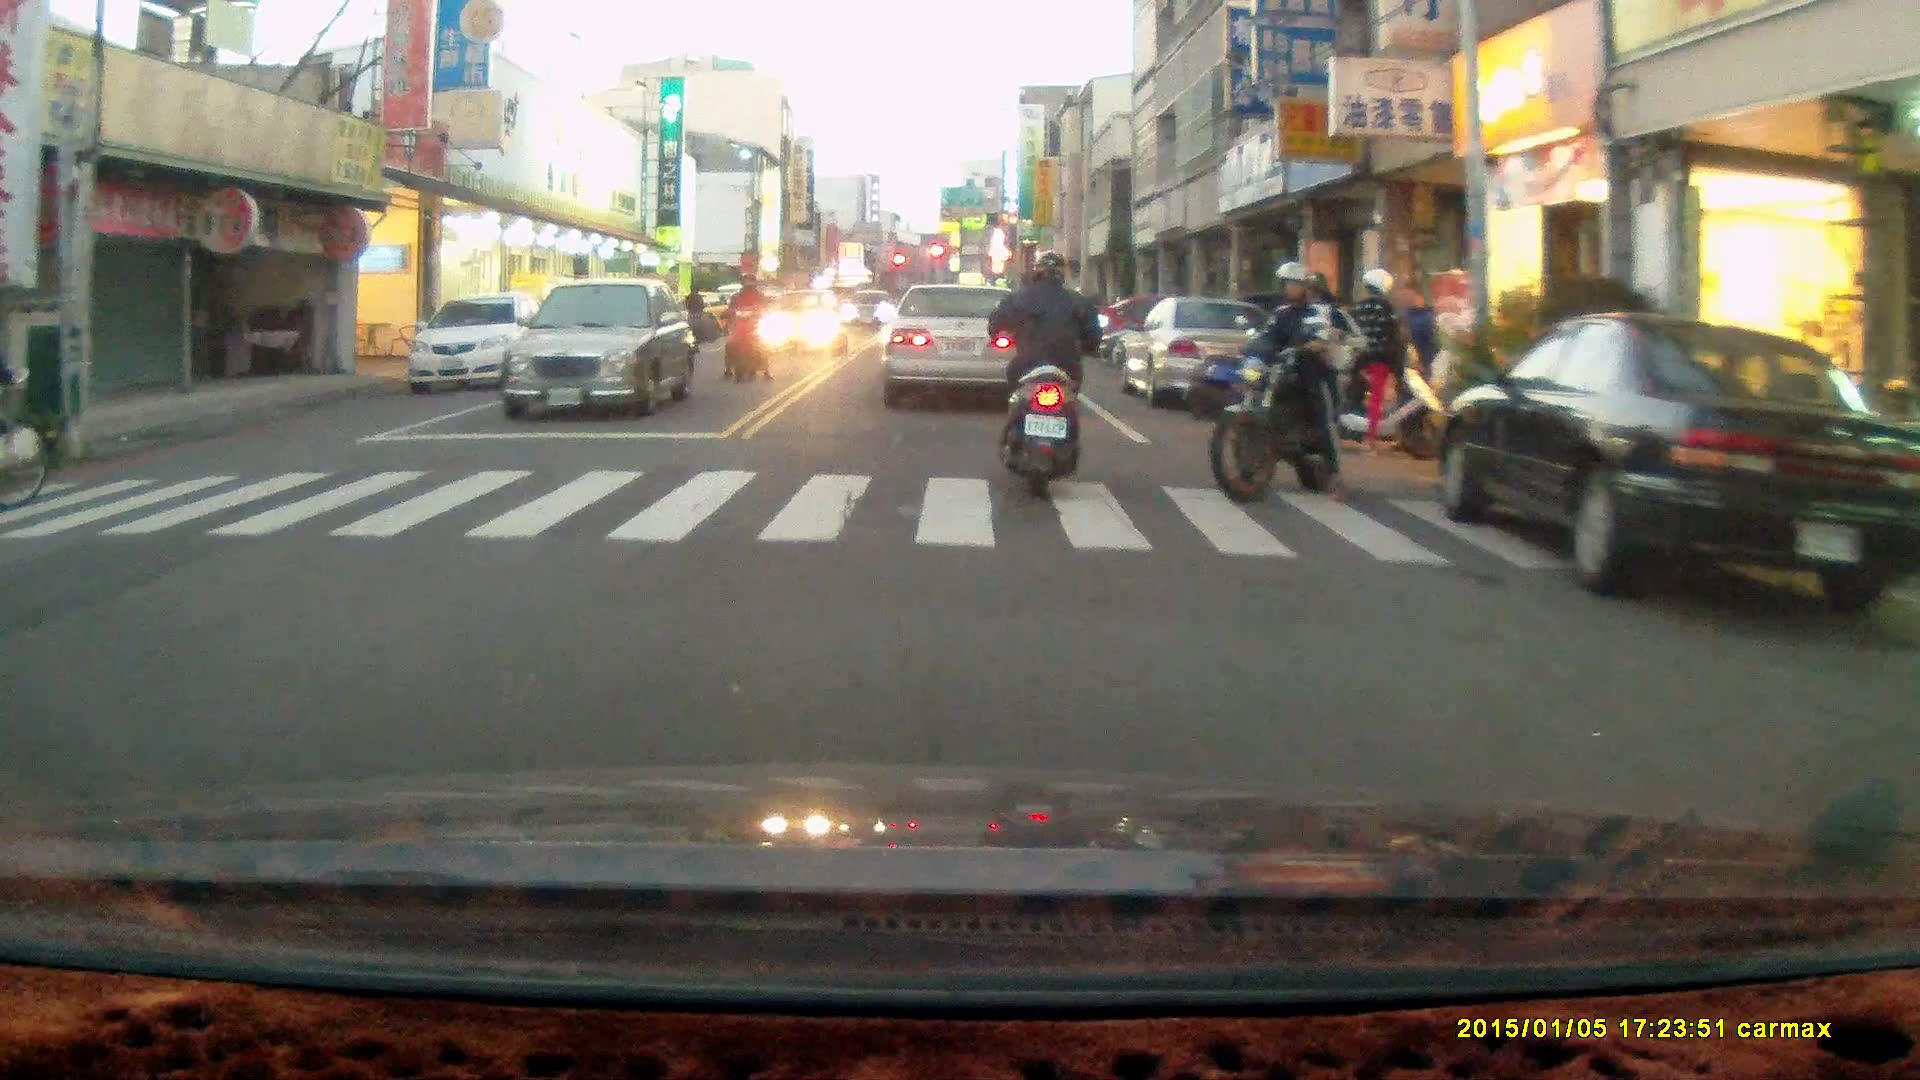pedestrian: (1351, 267, 1404, 445), (1393, 281, 1442, 427), (679, 279, 705, 352)
rider: (1206, 256, 1375, 500), (989, 245, 1107, 495), (719, 270, 774, 385)
vehicle: (1446, 315, 1920, 610), (502, 277, 701, 422), (1114, 296, 1289, 407), (878, 286, 1033, 411), (406, 290, 562, 399), (756, 288, 848, 361)
